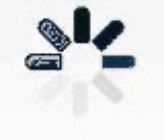ProgressBar: (1, 1, 163, 139)
